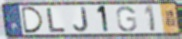1: (95, 5, 110, 34), (144, 4, 157, 33)
D: (20, 6, 45, 34)
G: (115, 5, 138, 33)
J: (73, 6, 90, 33)
L: (46, 7, 67, 33)
